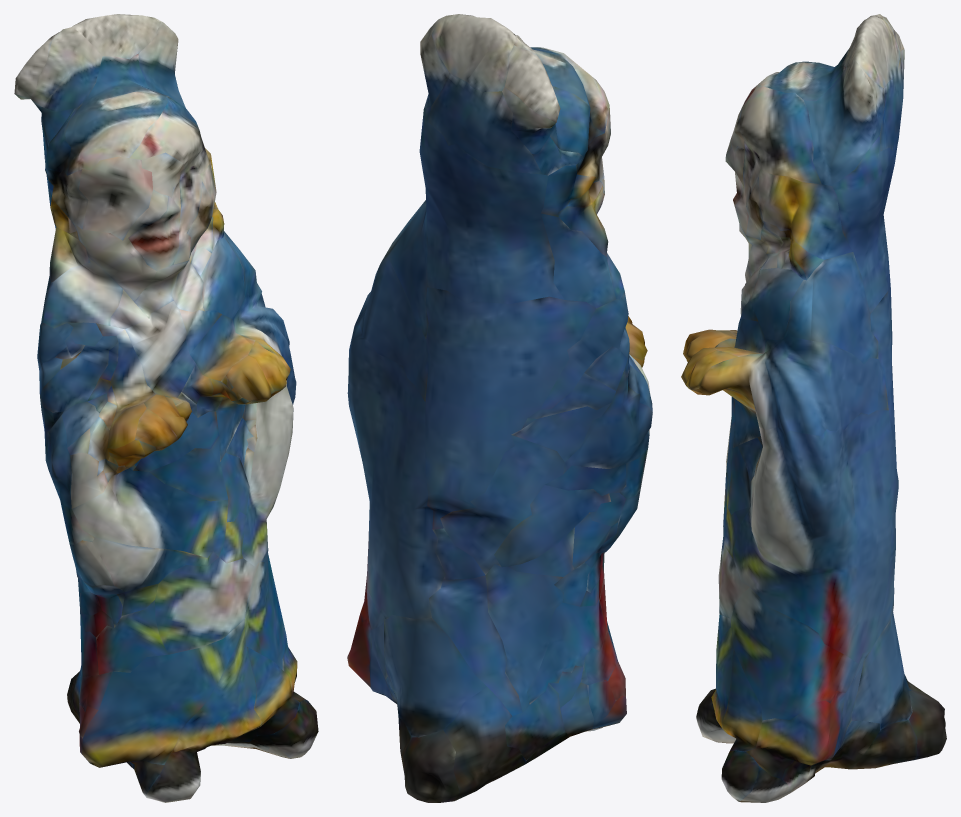
File: hall.glb
3 views of the same model, side by side, from view 1: azimuth 30°, elevation 25°; view 2: azimuth 150°, elevation 25°; view 3: azimuth 270°, elevation 25° (orthographic). The views are drawn at different scales.
Bounding box in the file's own units: 0.3841 × 1 × 0.3364.
1 material, 1 textured.
